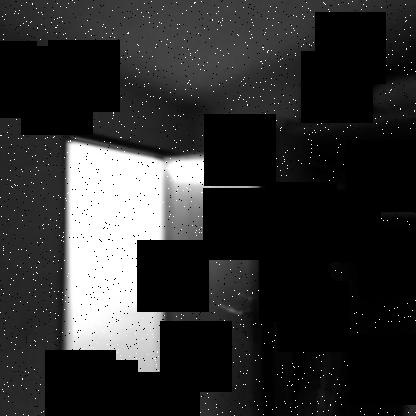Porte: (52, 130, 271, 415)
